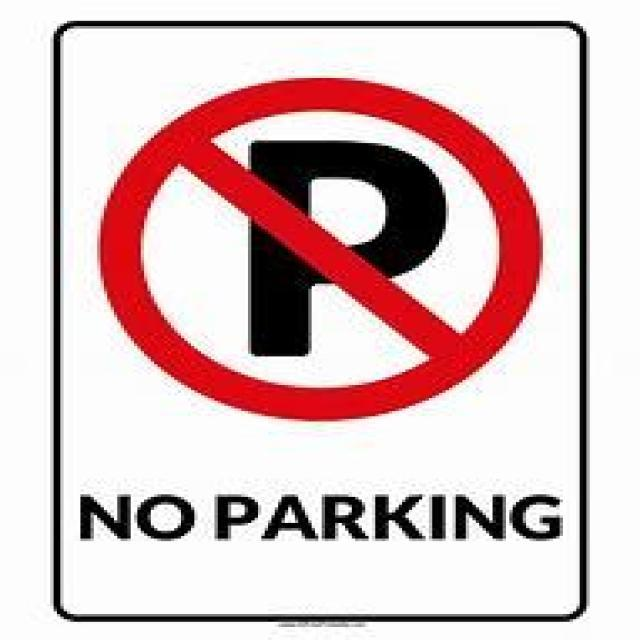no parking: (98, 74, 546, 418)
